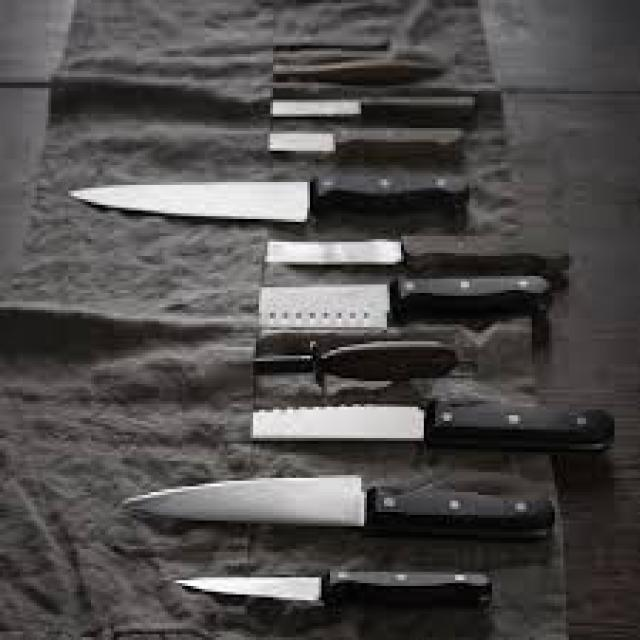Knife: (46, 86, 488, 276)
